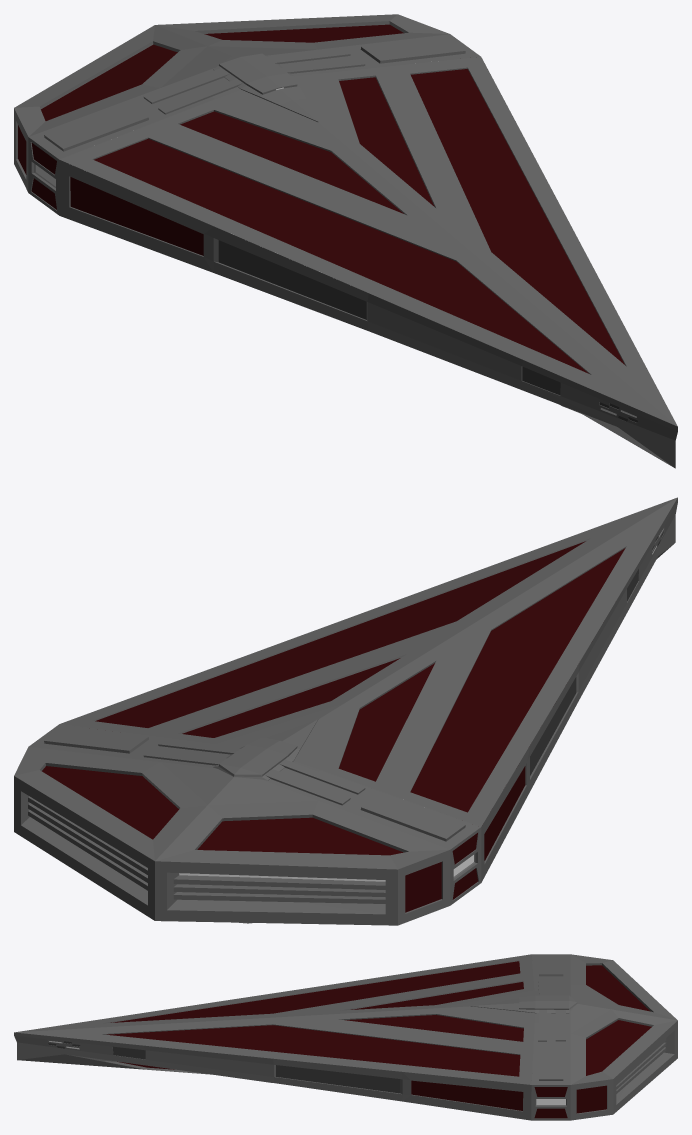
Rendered from Khan Battlecruiser.fbx.
The picture shows the model from 3 angles, top to bottom: view 1: azimuth 30°, elevation 25°; view 2: azimuth 150°, elevation 25°; view 3: azimuth 270°, elevation 25°; orthographic projection. The views are drawn at different scales.
Parts seen in each view (by area): view 1: Khan_BattleCarrier; view 2: Khan_BattleCarrier; view 3: Khan_BattleCarrier.
Part boxes in pixels (box(x1,y1,x2,y2)): Khan_BattleCarrier: box(14, 14, 677, 468); Khan_BattleCarrier: box(14, 497, 677, 925); Khan_BattleCarrier: box(14, 954, 677, 1120).
Size of the model in its own units: 3707 by 1289 by 7961.
